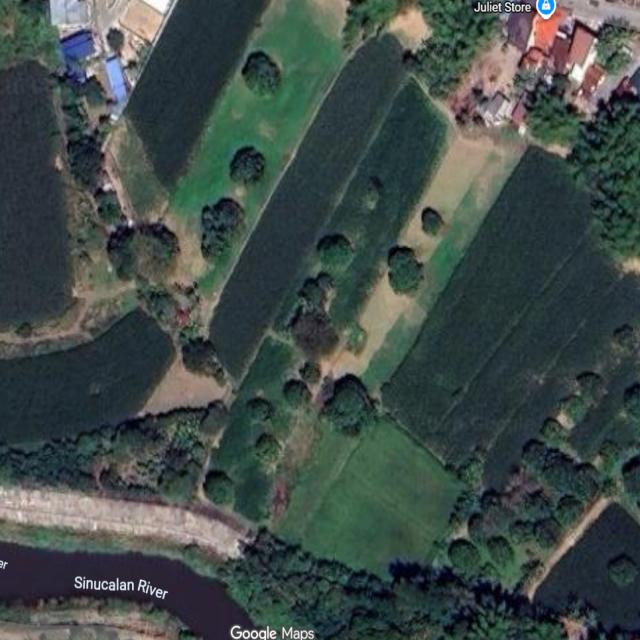Tree: (198, 196, 247, 272), (322, 374, 378, 438), (397, 575, 462, 627), (157, 443, 207, 503), (298, 573, 354, 623), (182, 333, 228, 388), (115, 419, 163, 466), (68, 133, 109, 188), (387, 243, 425, 298), (338, 609, 403, 640), (242, 49, 282, 99), (109, 225, 142, 283), (229, 142, 268, 191), (468, 603, 519, 640), (314, 232, 355, 274), (544, 450, 578, 496), (294, 281, 339, 314), (267, 545, 311, 577), (446, 537, 484, 574), (205, 469, 236, 510), (284, 375, 313, 415), (202, 401, 227, 444), (570, 460, 598, 498), (316, 559, 348, 591), (458, 456, 487, 491), (556, 496, 584, 532), (579, 370, 611, 401), (609, 553, 636, 588), (522, 433, 546, 472), (612, 321, 638, 356), (529, 615, 565, 640), (490, 536, 518, 568), (257, 433, 284, 465), (562, 388, 587, 422), (535, 519, 562, 549), (76, 427, 102, 457), (421, 202, 441, 239), (623, 460, 640, 500), (250, 527, 274, 555), (526, 490, 548, 517), (249, 396, 270, 423), (623, 389, 640, 421), (346, 568, 366, 592), (470, 512, 485, 542), (364, 572, 382, 594)
